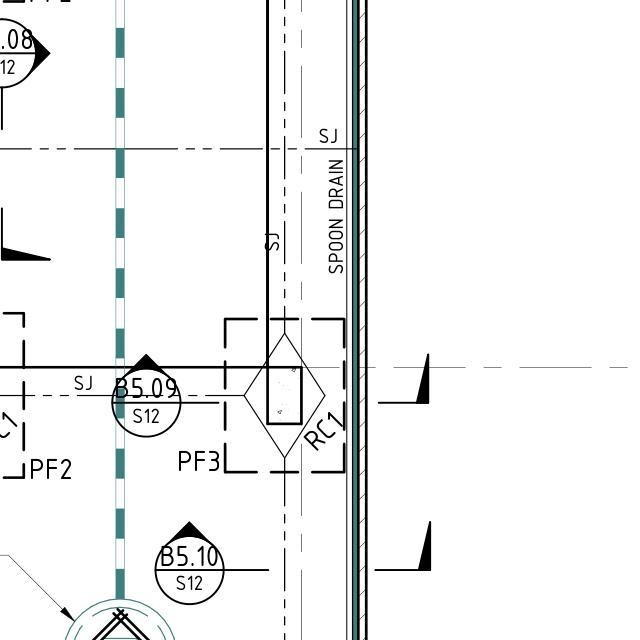PF2: (20, 450, 78, 488)
PF3: (168, 440, 226, 477)
RC1: (306, 406, 351, 456)
